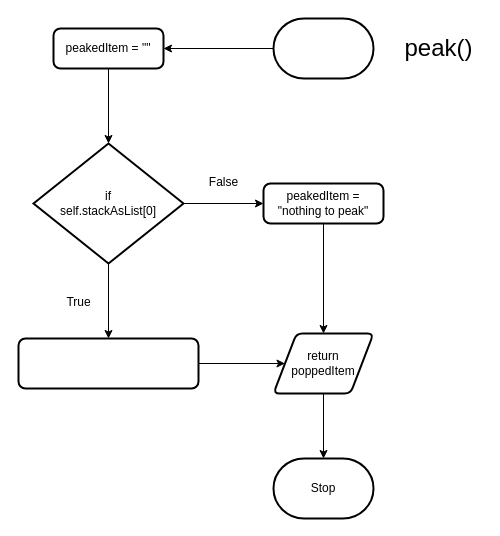
Image size: 500x536. Some labels were removed from this diagram. Here are the shapes that lost their labels. From the top down, the box of each, then its label:
(272, 17, 374, 79): Start
(17, 337, 199, 389): peakedItem = self.stackAsList[ self.stackAsList.length - 1]
